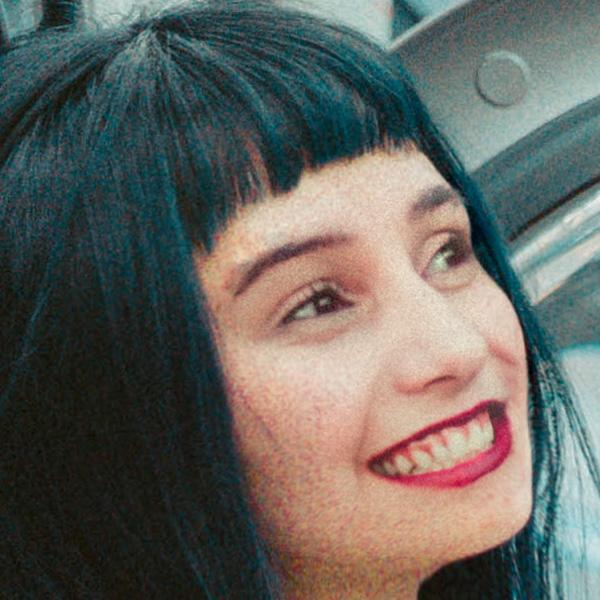Eyes: (274, 265, 362, 336), (413, 216, 476, 294)
